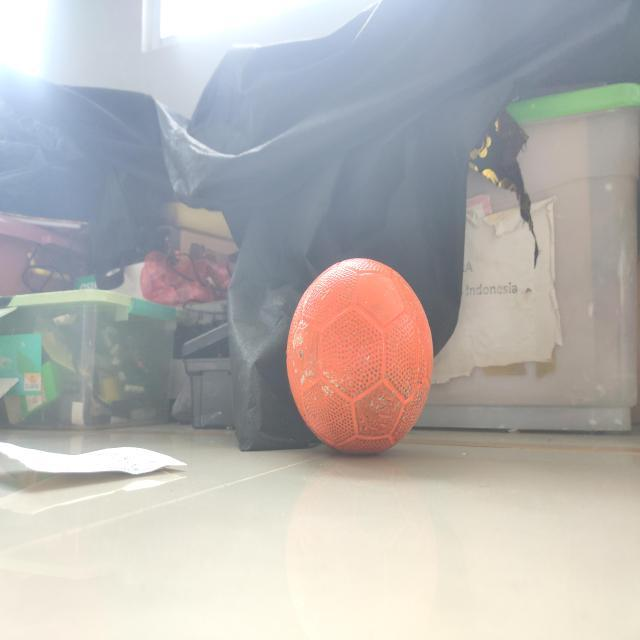bola: (280, 253, 436, 460)
